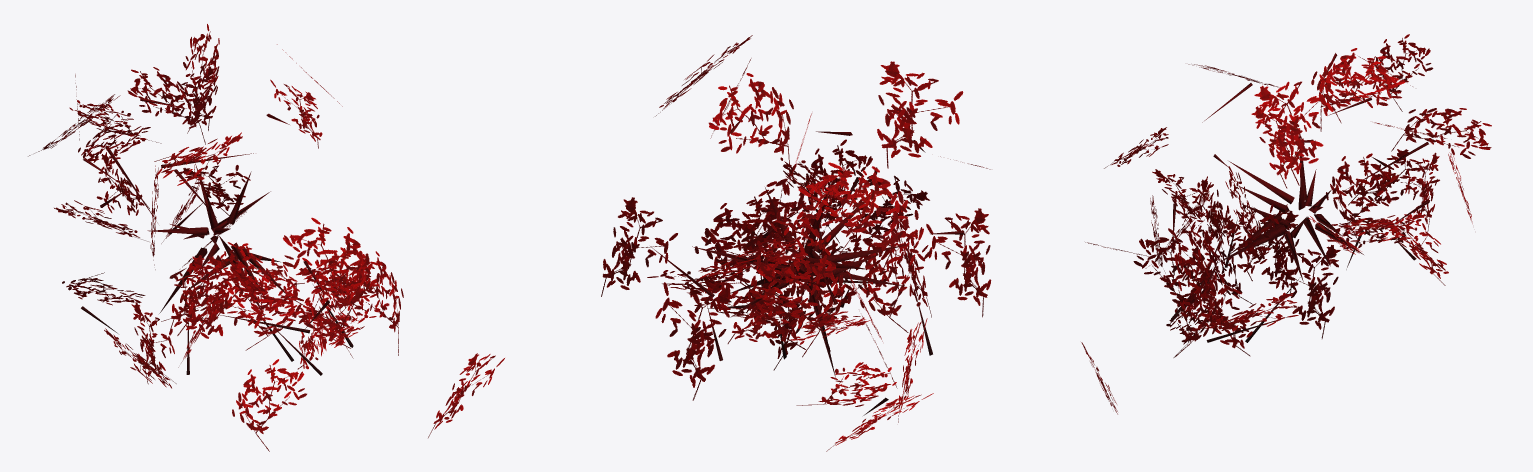
The model's file is bush_desert_shrub_a_lod2.glb.
3 renders of one model, left to right at view 1: azimuth 30°, elevation 25°; view 2: azimuth 150°, elevation 25°; view 3: azimuth 270°, elevation 25°, orthographic. The views are drawn at different scales.
Parts seen in each view (by area): view 1: bush_desert_shrub_a; view 2: bush_desert_shrub_a; view 3: bush_desert_shrub_a.
Part boxes in pixels (left/top/right/bottom): bush_desert_shrub_a: left=28, top=24, right=504, bottom=451; bush_desert_shrub_a: left=601, top=35, right=991, bottom=451; bush_desert_shrub_a: left=1081, top=34, right=1491, bottom=414.
Bounding box in the file's own units: 1.11 × 1.08 × 1.2.
1 material, 1 textured.
